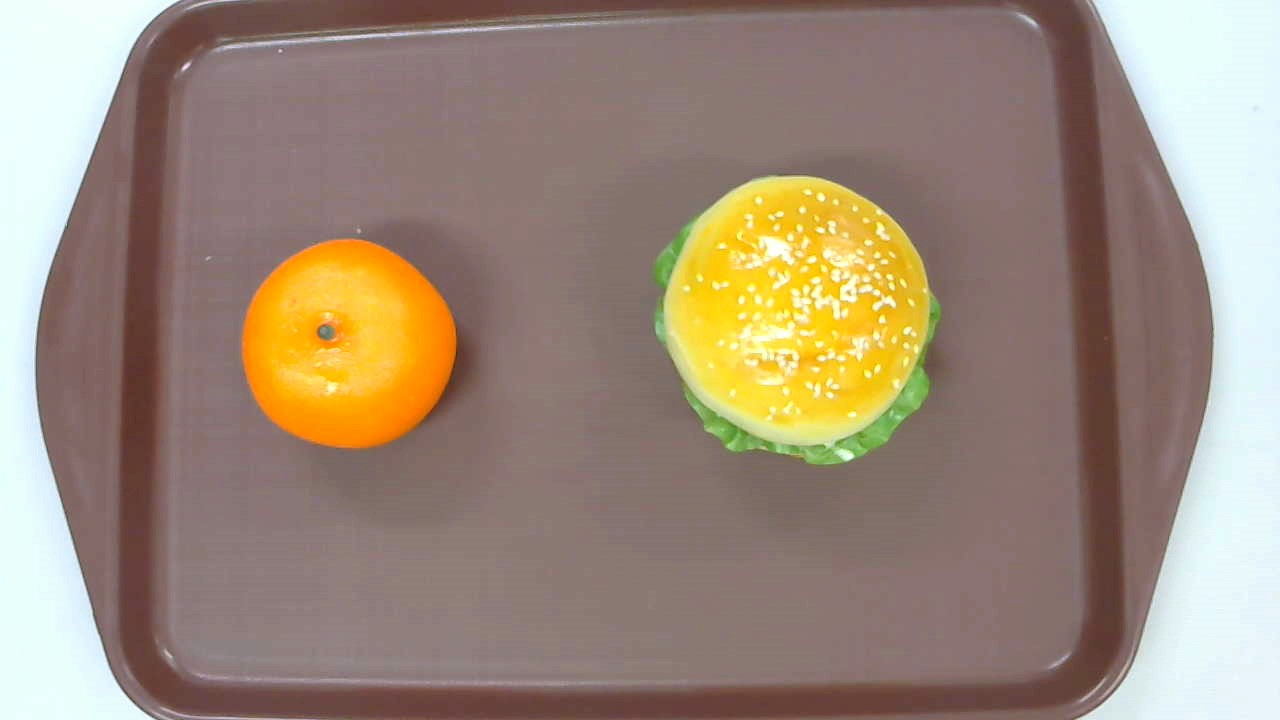hamburger: (650, 174, 941, 466)
orange: (241, 239, 456, 453)
